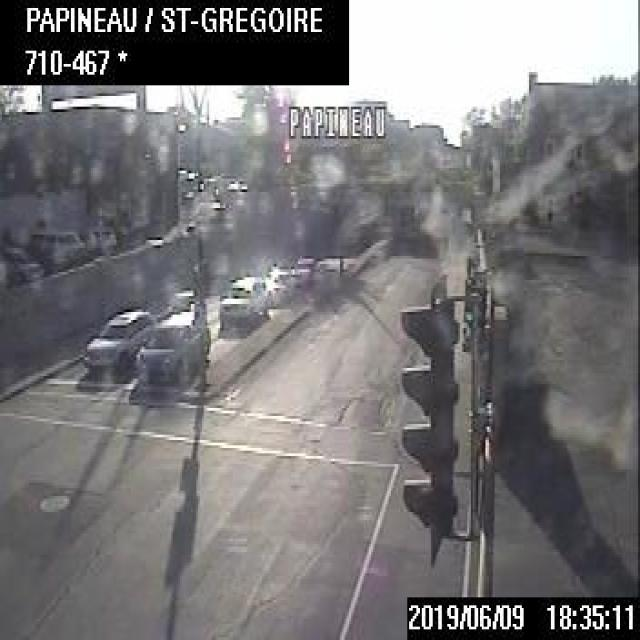vehicle: (138, 308, 211, 387), (82, 309, 154, 370), (215, 272, 269, 325), (27, 226, 84, 268), (0, 244, 42, 279)
